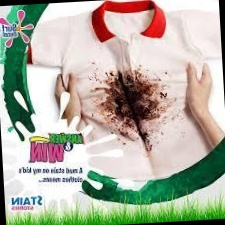earth: (106, 74, 158, 125)
